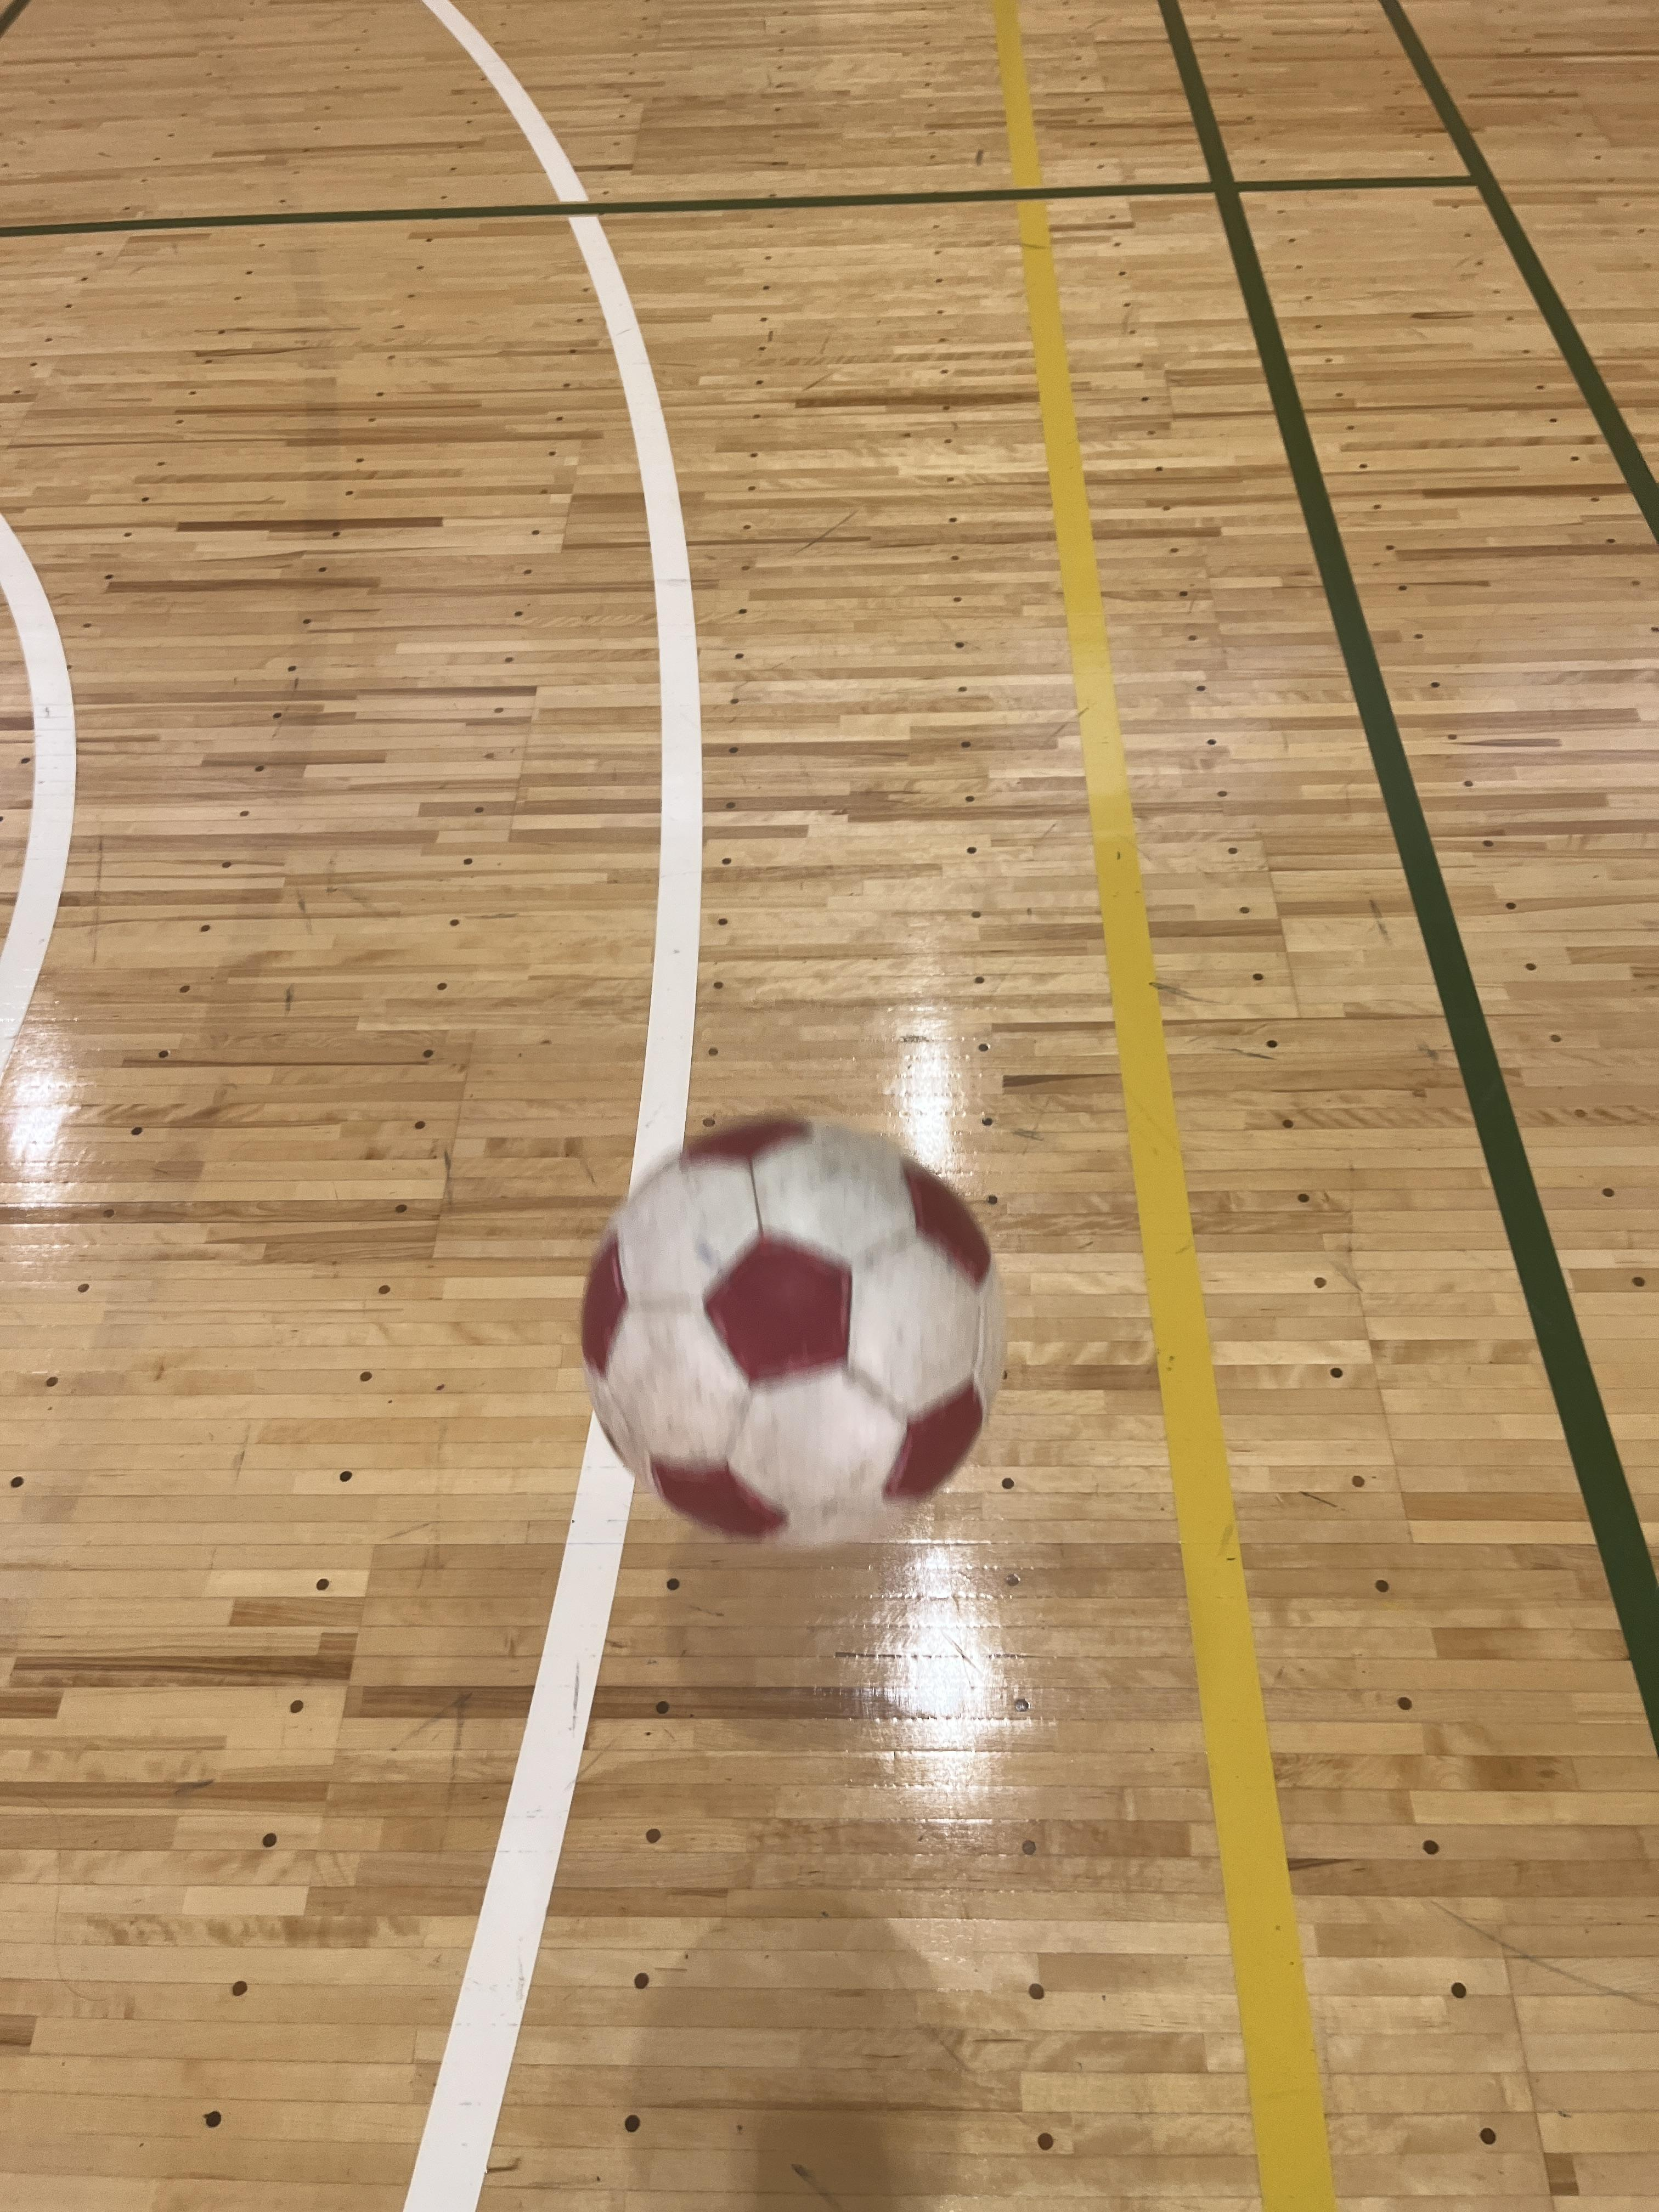Sports-Ball: (577, 1125, 1016, 1547)
